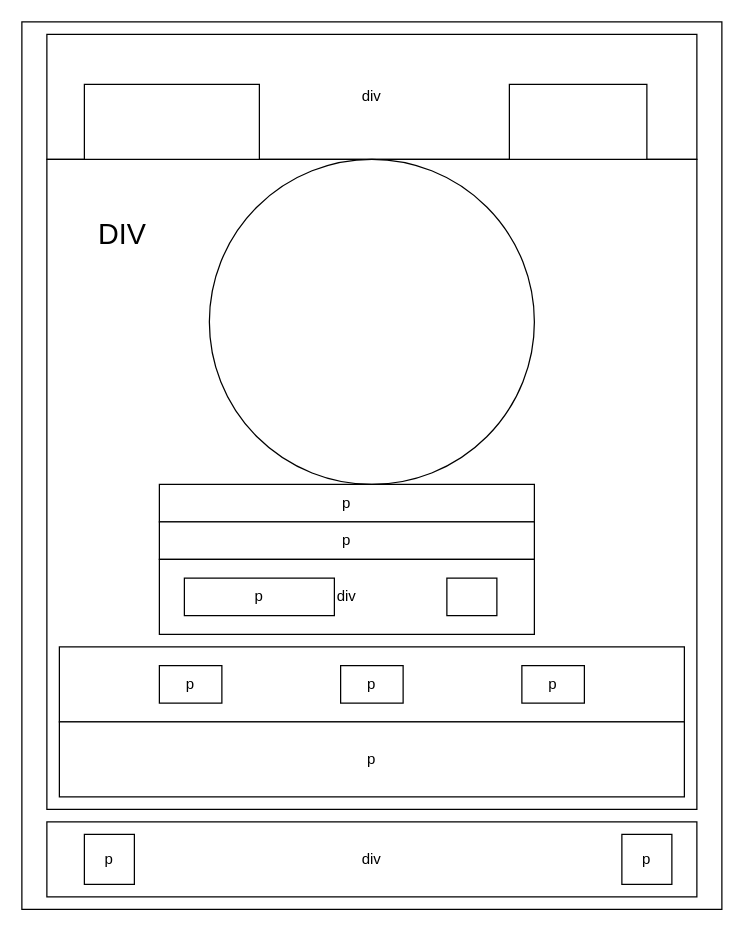
Image size: 744x931. Some labels were removed from this diagram. The shapes that lost their labels are listed below. From the top down, each one's box as (x1, y1, x2, y2) in pixels, then its label:
(83, 83, 259, 159): <p>available</p>
(508, 83, 647, 159): <p></p>
(208, 158, 534, 484): IMG
(446, 577, 497, 616): span
